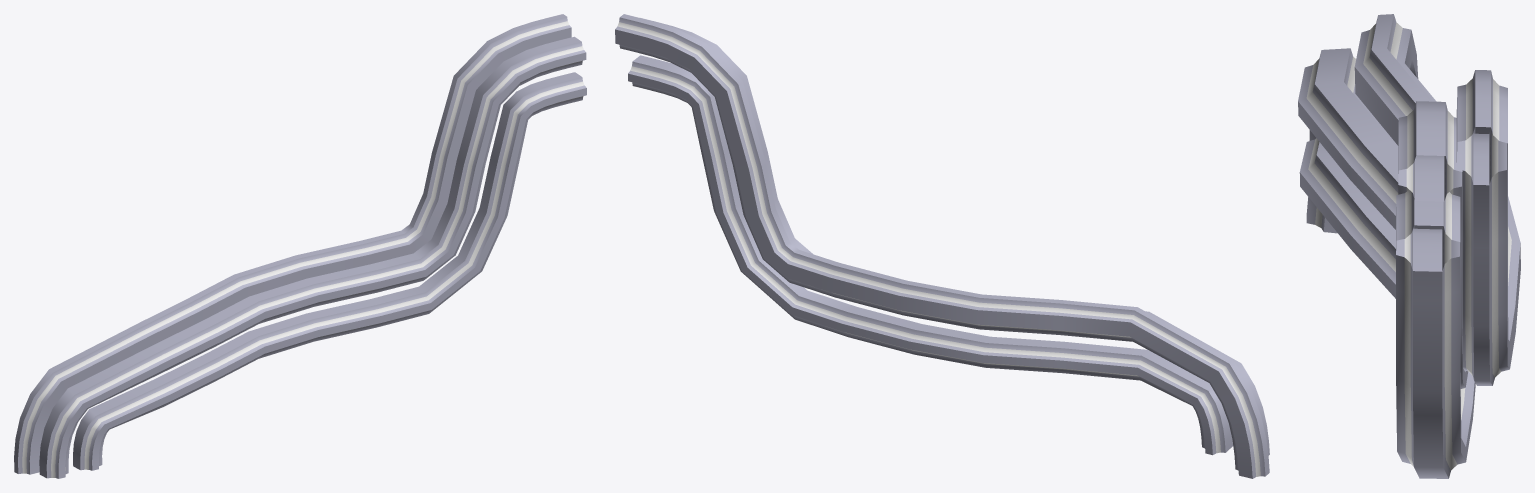
Rendered from Pipe_4.fbx.
3 renders of one model, left to right at view 1: azimuth 30°, elevation 25°; view 2: azimuth 150°, elevation 25°; view 3: azimuth 270°, elevation 25°, orthographic. The views are drawn at different scales.
Parts seen in each view (by area): view 1: Pipe_4; view 2: Pipe_4; view 3: Pipe_4.
Boxes of the visible parts, left/top/right/bottom form: Pipe_4: left=14, top=14, right=586, bottom=478; Pipe_4: left=615, top=14, right=1269, bottom=478; Pipe_4: left=1298, top=14, right=1520, bottom=478.
Bounding box in the file's own units: 14.61 × 7.37 × 2.46.
